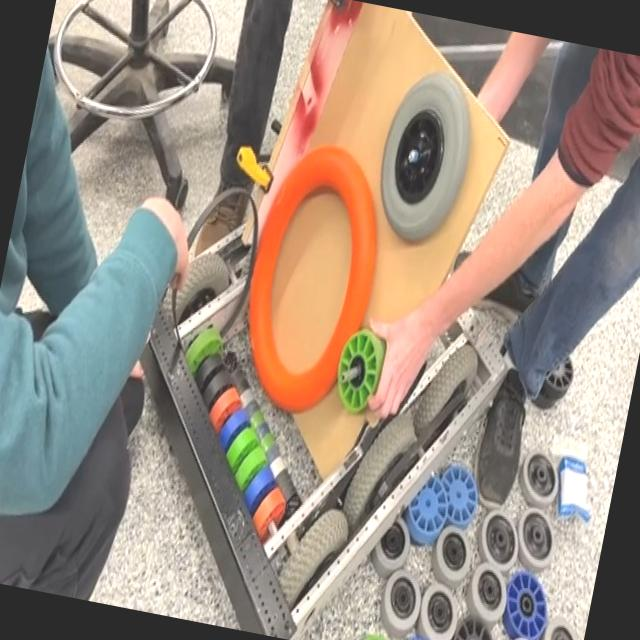note: (225, 132, 400, 428)
